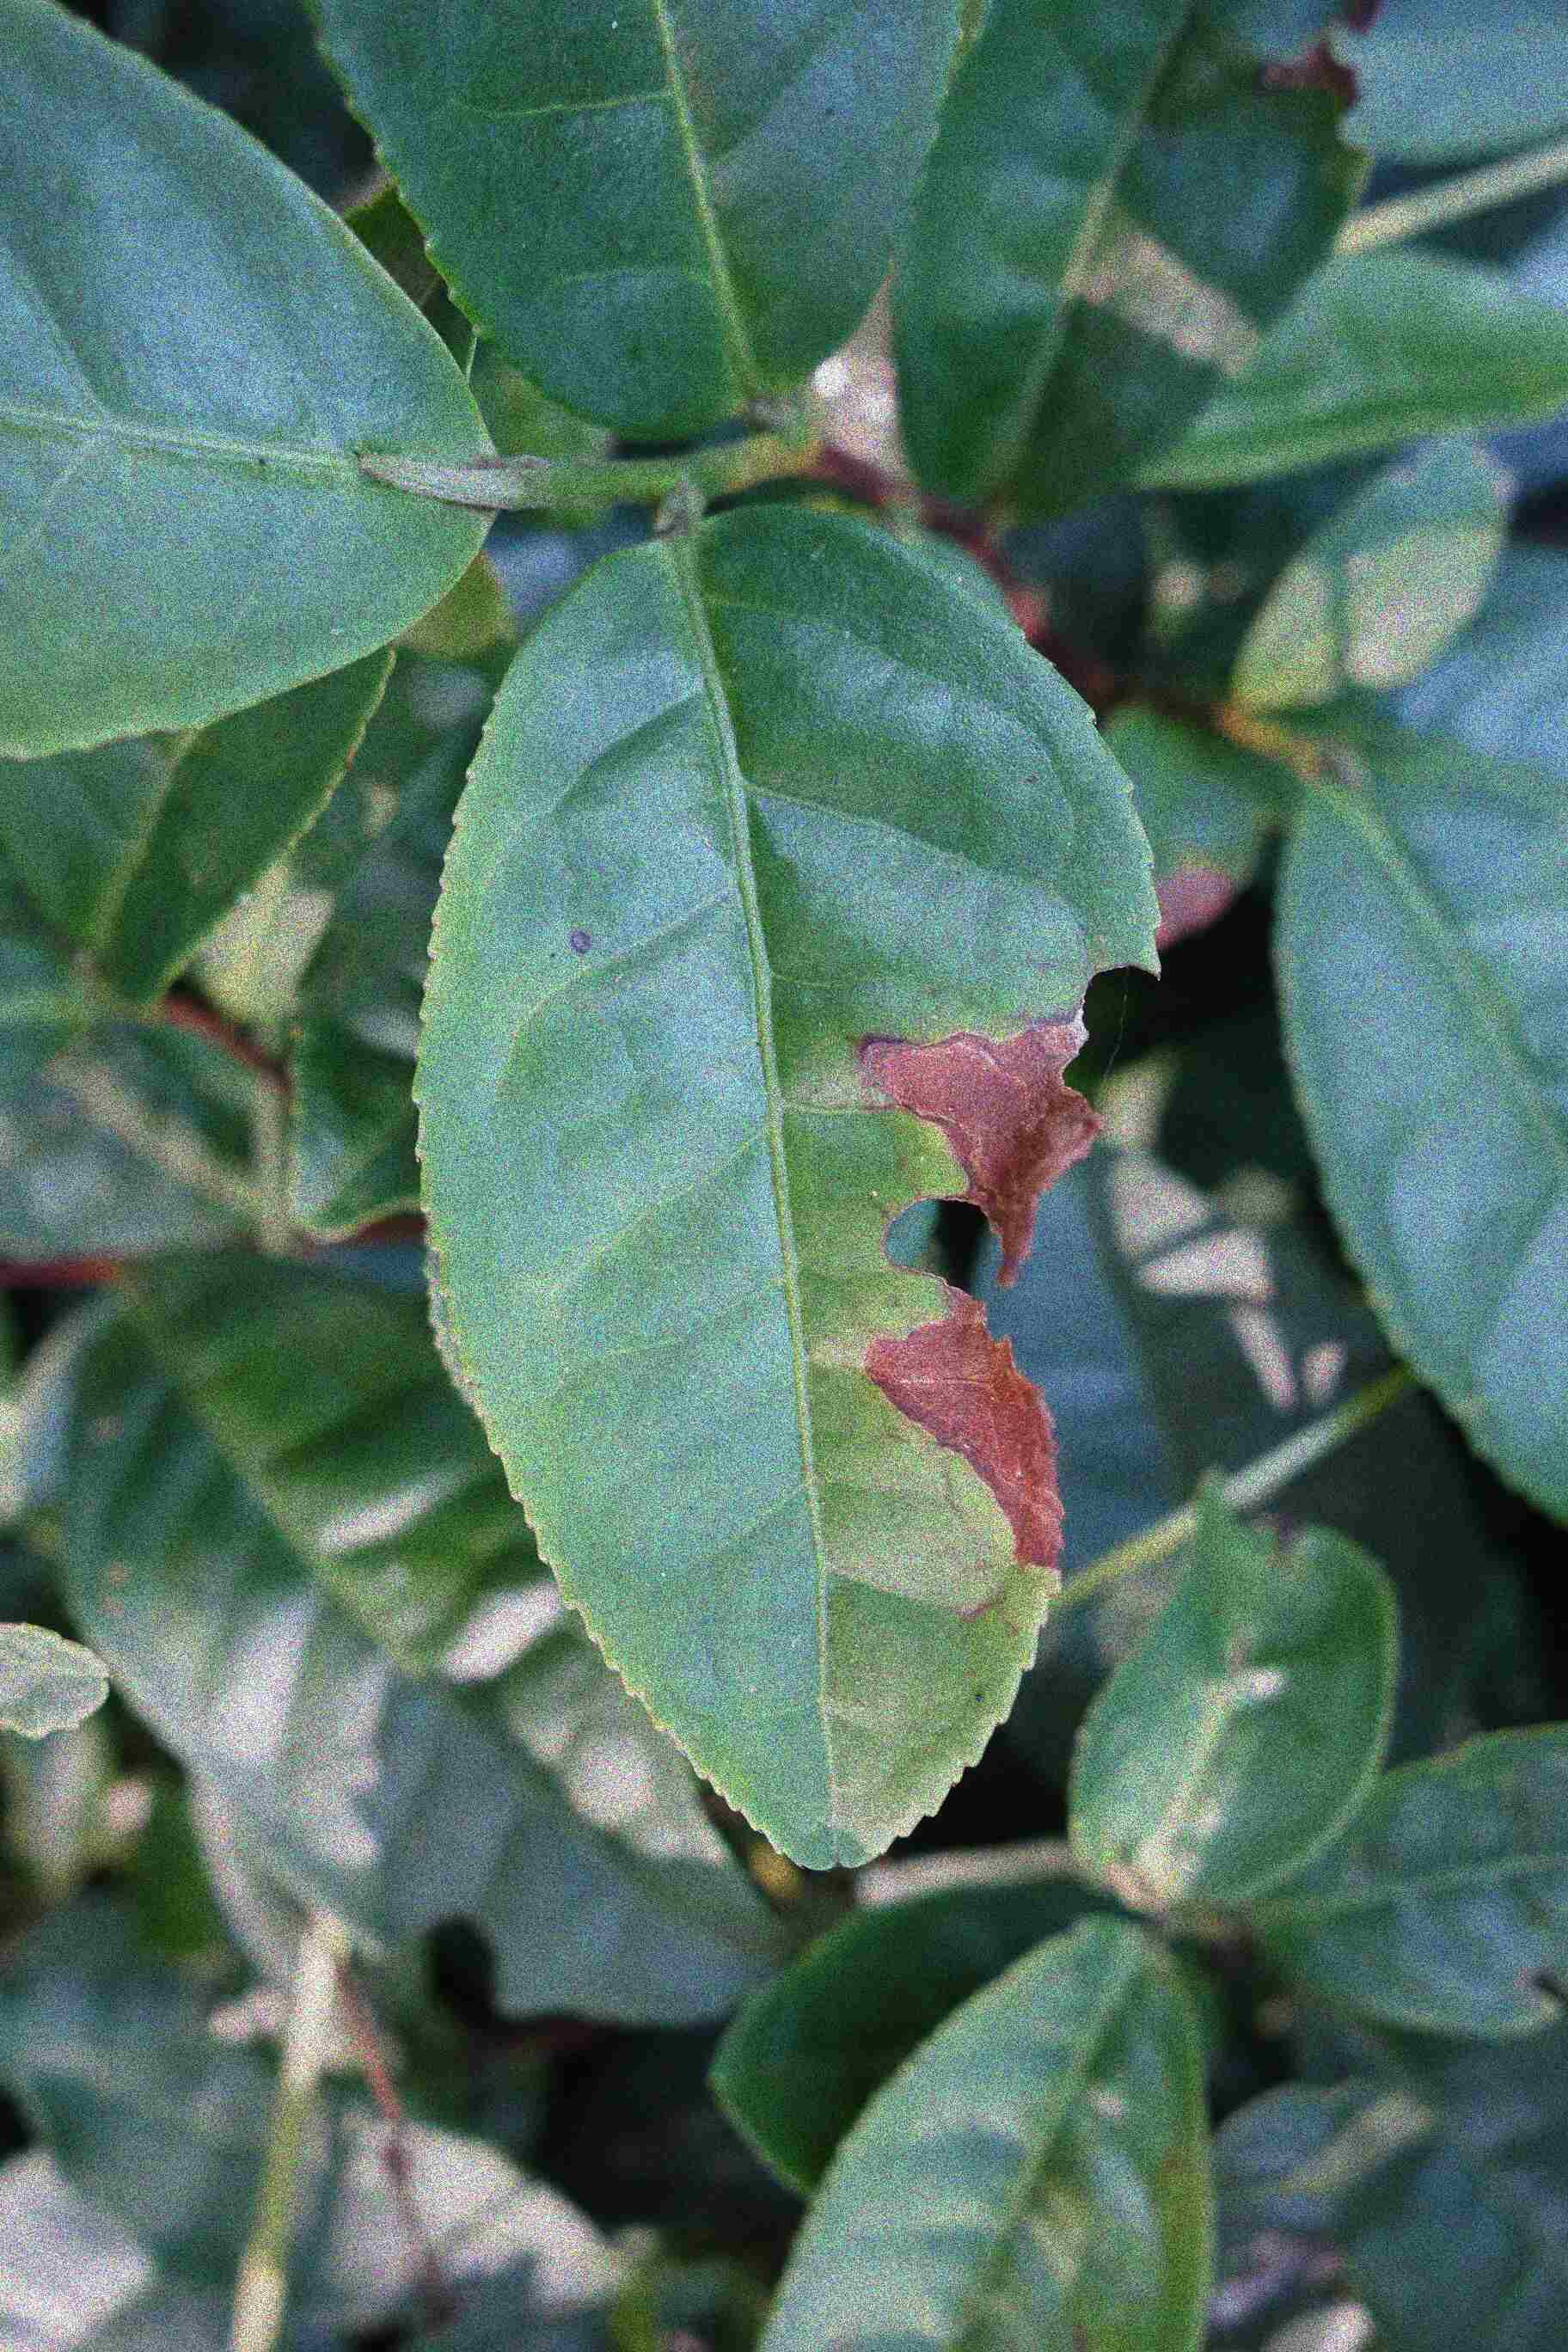tanju_high: (408, 474, 1164, 1881)
